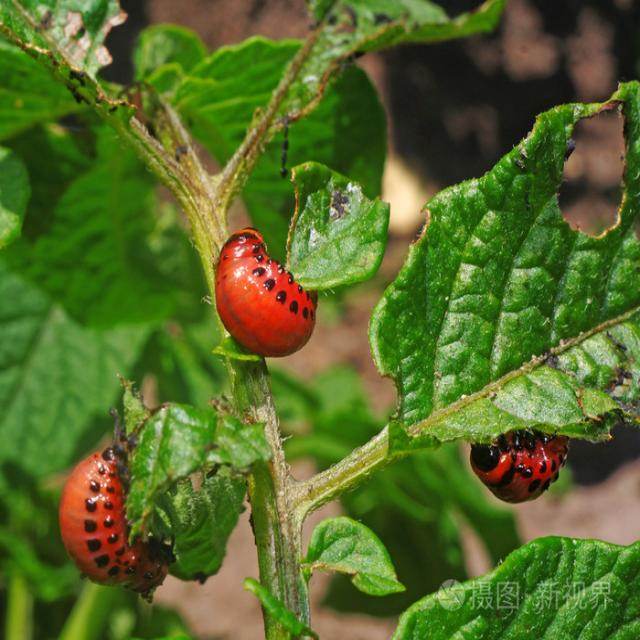ShuCaiHuaBanChong-Larva-: (193, 210, 319, 359), (60, 438, 160, 592), (446, 418, 580, 498)
